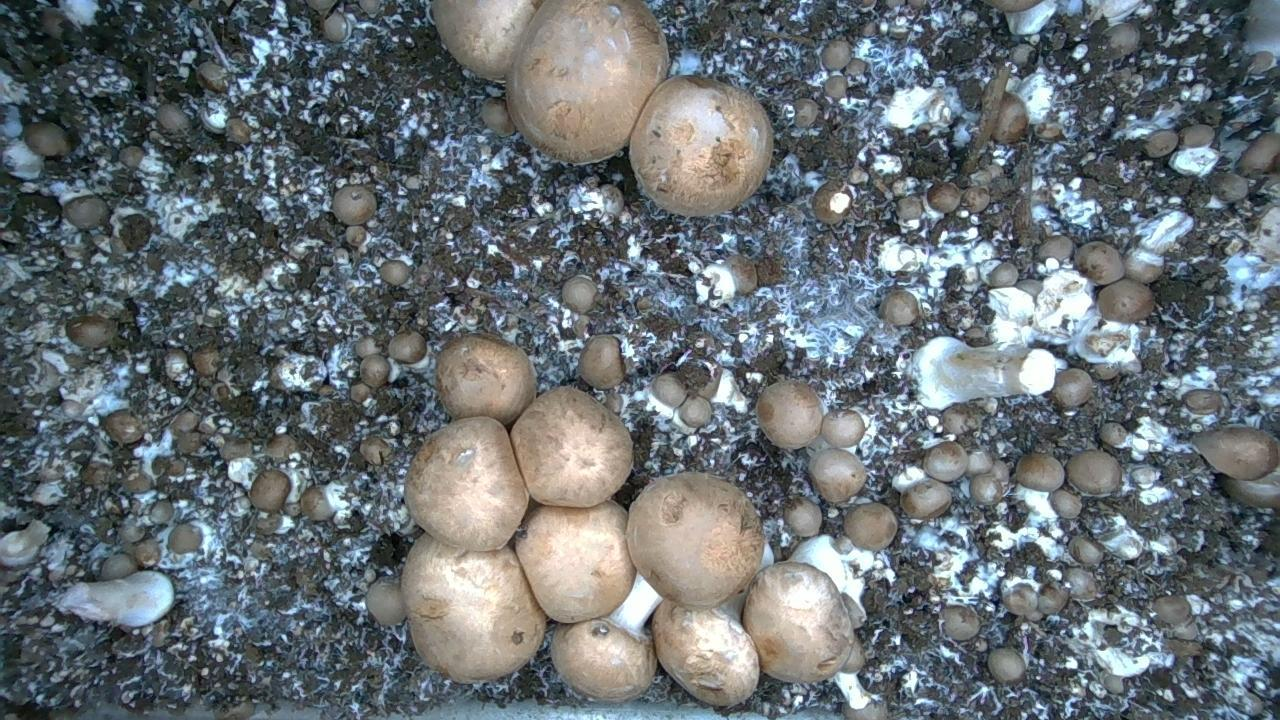BB: (506, 0, 668, 163), (401, 533, 545, 682), (630, 76, 773, 215), (627, 472, 764, 607), (405, 416, 528, 551), (510, 386, 632, 506), (516, 500, 635, 622), (743, 561, 852, 682), (651, 599, 758, 705), (435, 334, 535, 424), (551, 618, 657, 702), (431, 0, 540, 81), (1192, 426, 1279, 480), (756, 380, 823, 448), (808, 448, 866, 503), (1220, 466, 1279, 509), (579, 334, 625, 389), (1066, 450, 1122, 495), (1097, 279, 1154, 323), (844, 503, 897, 550), (1074, 241, 1124, 284), (901, 478, 951, 519), (1015, 452, 1064, 491), (991, 92, 1028, 143), (820, 409, 868, 448), (923, 441, 968, 481), (366, 579, 405, 625), (249, 469, 290, 512), (1238, 132, 1279, 175), (812, 179, 851, 224), (1051, 368, 1093, 409), (332, 185, 376, 224), (23, 121, 71, 156), (66, 315, 116, 348), (64, 195, 109, 229), (784, 497, 822, 536), (878, 290, 919, 325), (1124, 248, 1163, 284), (104, 410, 144, 444), (941, 605, 979, 640), (724, 254, 757, 294), (562, 275, 596, 313), (481, 98, 515, 135), (988, 648, 1025, 681), (388, 331, 426, 363), (651, 373, 686, 407), (300, 486, 334, 520), (1153, 596, 1191, 626), (1068, 536, 1104, 566), (100, 553, 138, 580), (1182, 389, 1223, 414), (970, 473, 1003, 504), (1214, 172, 1248, 202), (679, 396, 711, 427), (196, 61, 228, 92), (927, 182, 960, 212), (360, 354, 390, 387), (1142, 130, 1178, 157), (191, 345, 221, 377), (1049, 489, 1082, 518), (168, 524, 201, 553), (822, 39, 851, 70), (157, 104, 189, 132), (1038, 585, 1068, 614), (80, 461, 113, 486), (842, 703, 888, 720), (1180, 124, 1214, 147), (962, 186, 990, 213), (1099, 422, 1127, 447), (967, 449, 992, 475), (1248, 51, 1275, 74), (119, 146, 144, 168), (1010, 43, 1033, 66), (357, 0, 381, 16)
